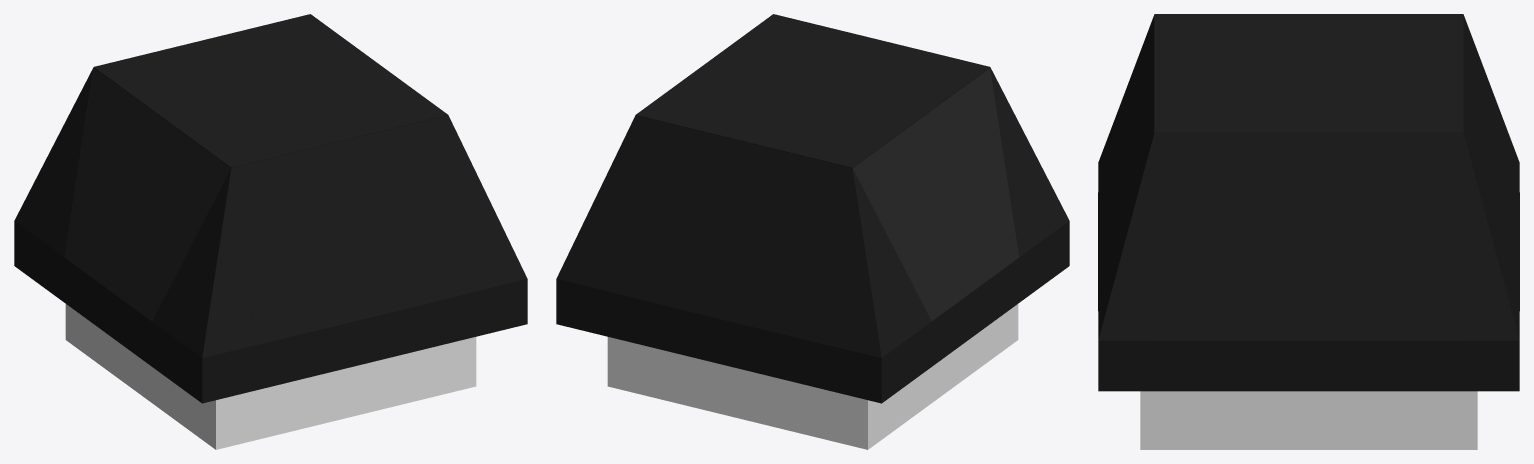
File: key-left.gltf
3 views of the same model, side by side, from view 1: azimuth 30°, elevation 25°; view 2: azimuth 150°, elevation 25°; view 3: azimuth 270°, elevation 25° (orthographic). The views are drawn at different scales.
Parts seen in each view (by area): view 1: key1, pyramid (×3); view 2: key1, pyramid (×3); view 3: key1, pyramid (×4).
Part boxes in pixels (x1=…): key1: x1=14, y1=14, x2=527, y2=449; pyramid (×3): x1=14, y1=67, x2=527, y2=357; key1: x1=556, y1=14, x2=1069, y2=449; pyramid (×3): x1=556, y1=67, x2=1069, y2=357; key1: x1=1098, y1=14, x2=1519, y2=449; pyramid (×4): x1=1098, y1=14, x2=1519, y2=340.
Size of the model in its own units: 0.9385 by 0.75 by 0.9388.
1 material, 1 textured.
